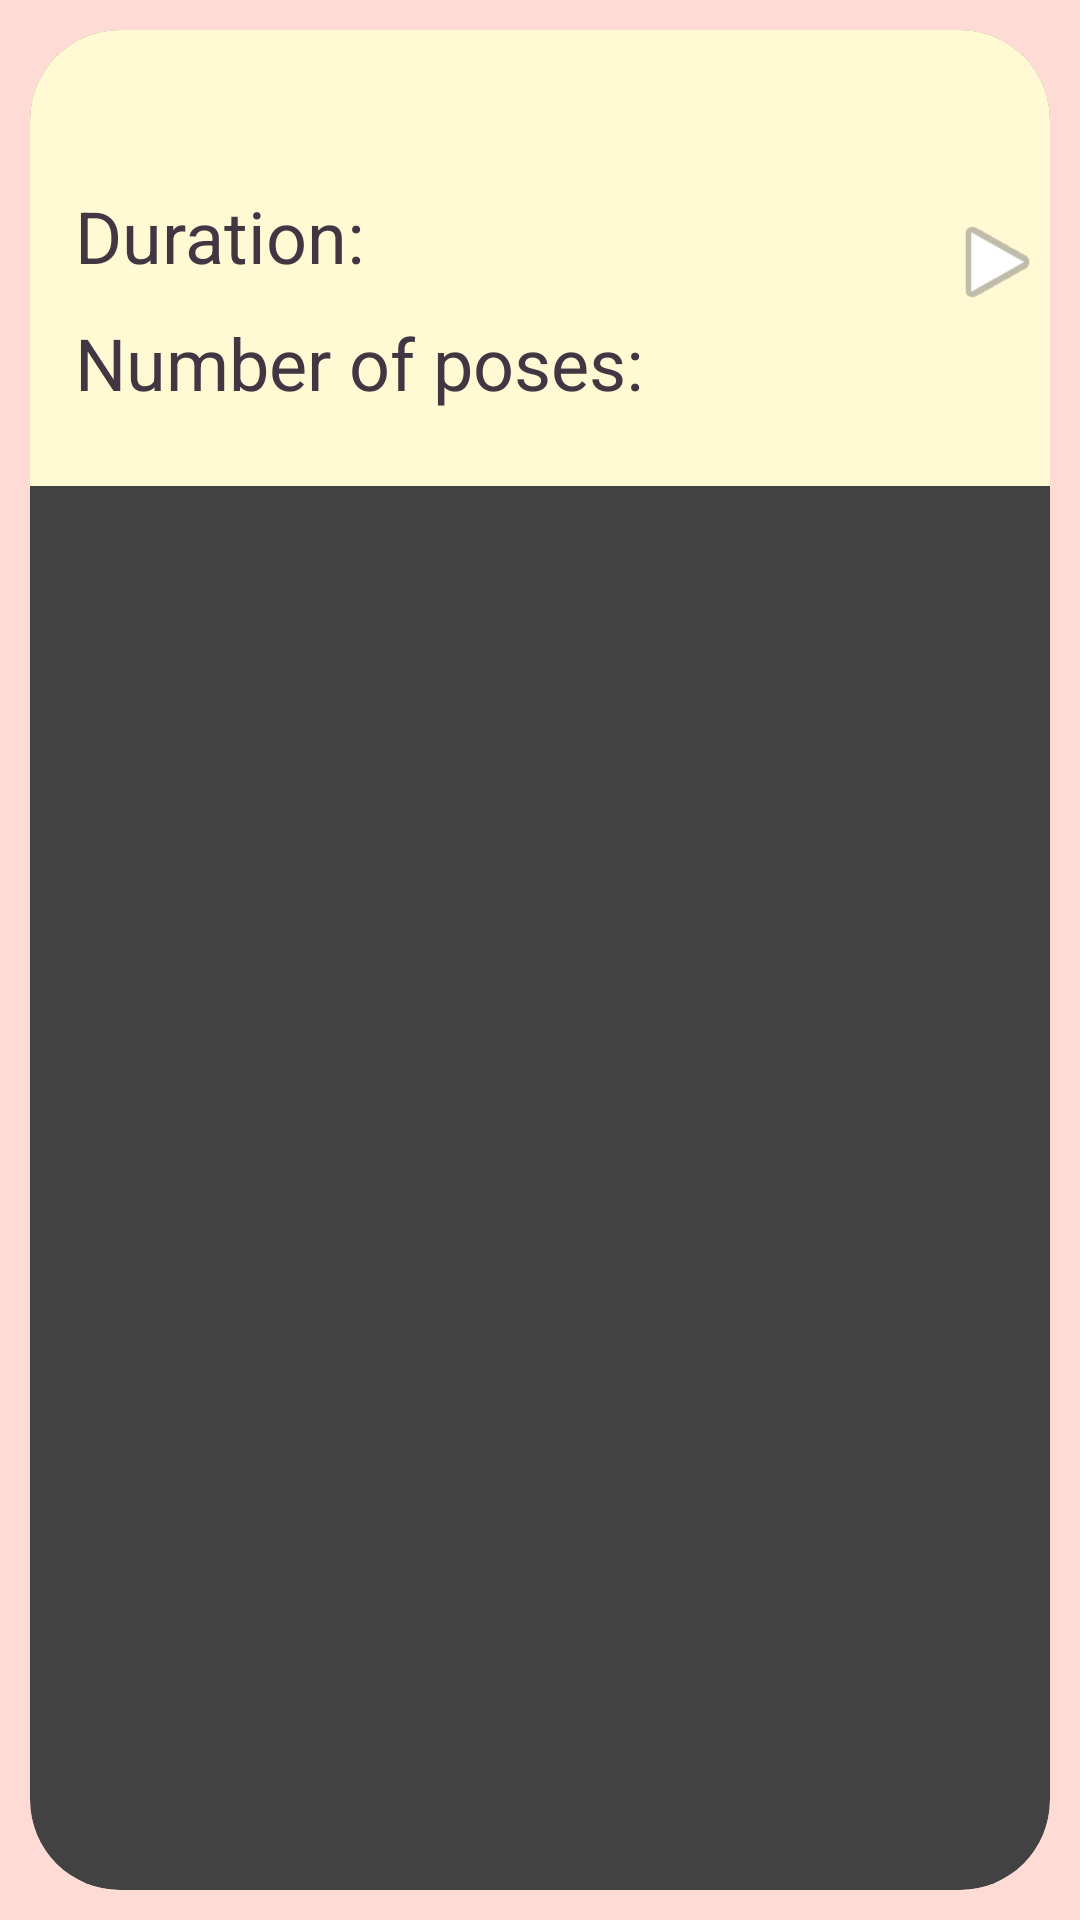

Locate icon controls on the screen. Image size 1080*1920, boxes as (x1, y1, x2, y2).
play: (966, 227, 1029, 297)
